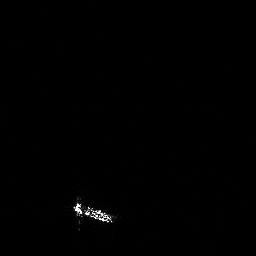ship: (71, 198, 115, 226)
